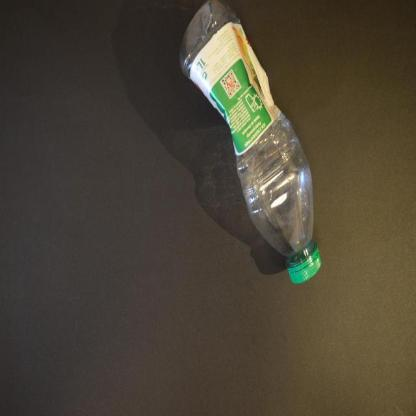Plastic Bottle: (180, 0, 322, 284)
